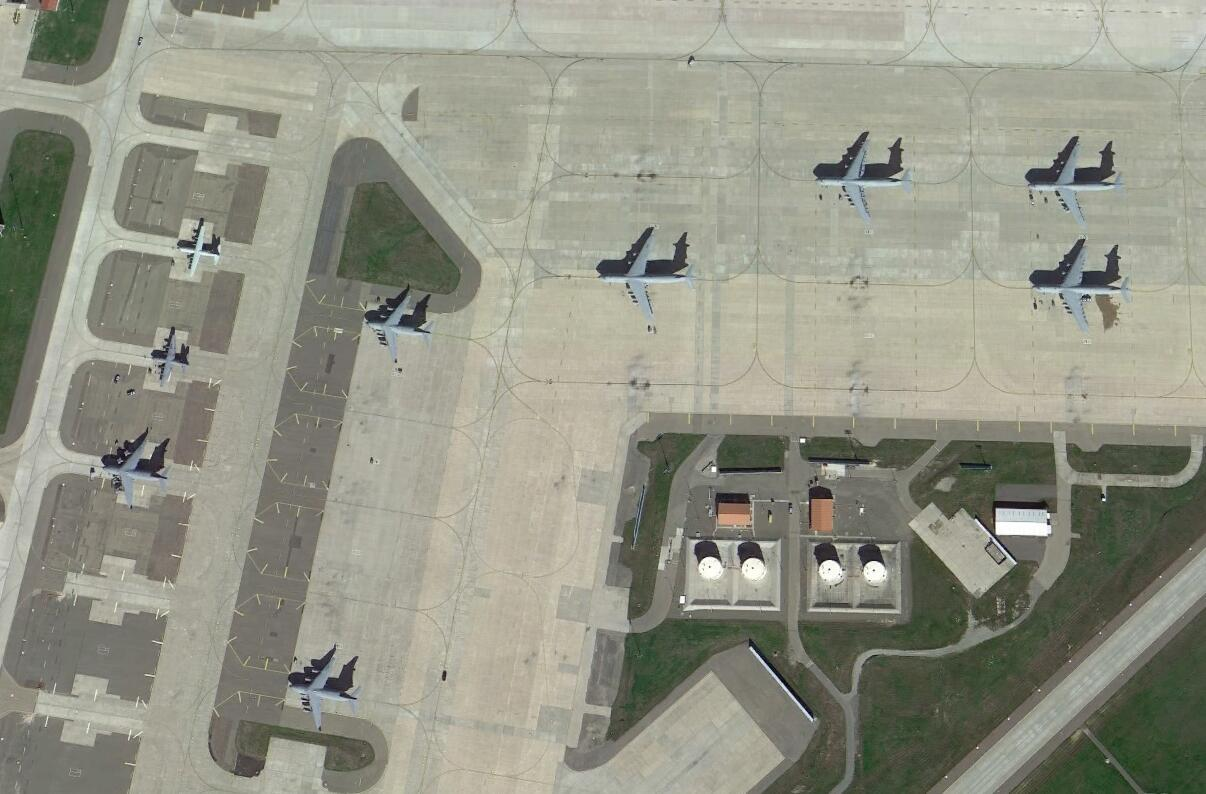A2: (174, 220, 223, 279), (146, 327, 192, 388)
A3: (283, 650, 361, 734), (96, 434, 170, 512), (364, 292, 434, 362)
A4: (1029, 237, 1128, 336), (597, 227, 693, 324), (813, 134, 911, 225), (1025, 141, 1123, 228)
